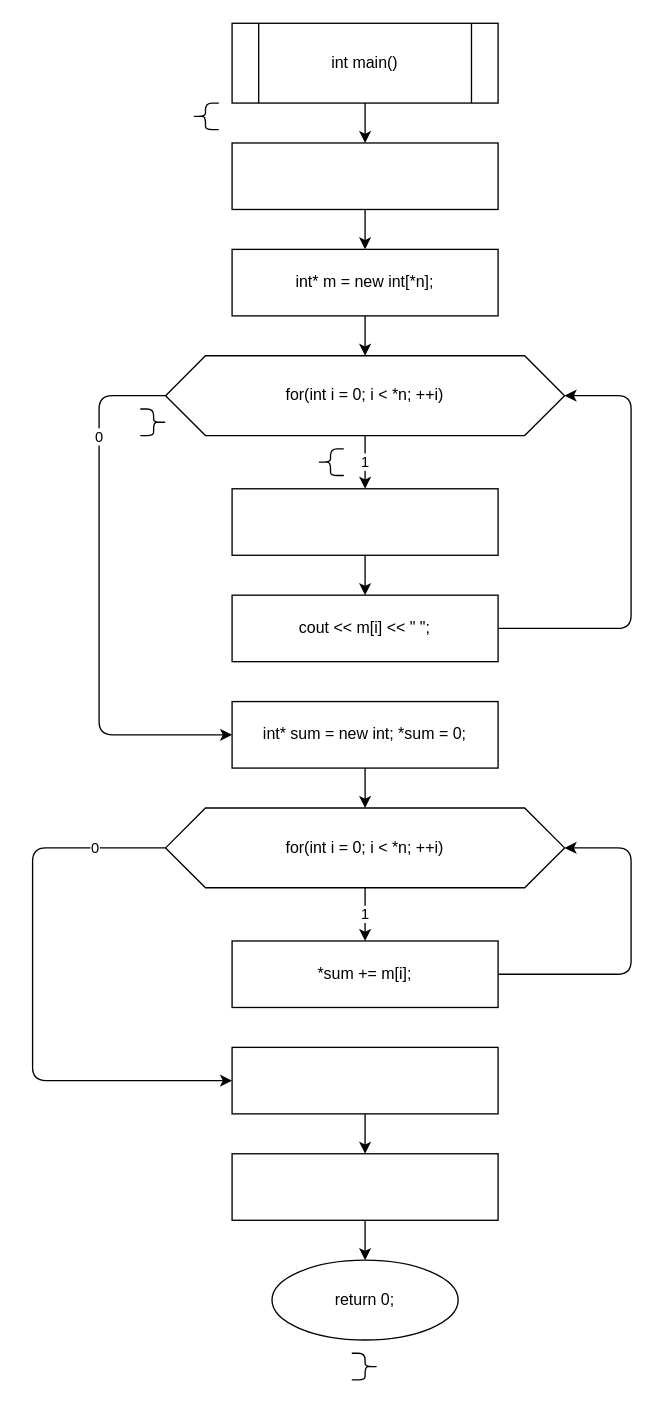
The diagram is 665 pixels wide and 1403 high, and some of its shapes have lost their labels. The shapes that lost their labels are listed below. From the top down, each one's centre as x and y in pixels, then its label:
At (364,175): "int* n = new int; cin >> *n;".
At (364,521): "m[i] = rand()%100 + 1;".
At (364,1080): "cout << endl << *sum;".
At (364,1186): "delete sum; delete n; delete m;".
